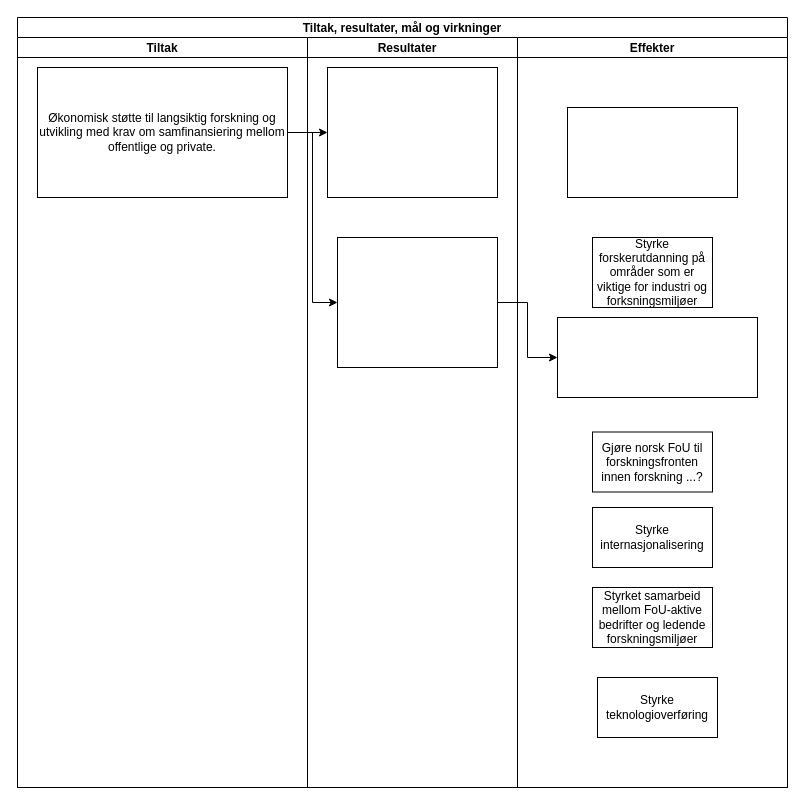
Some shapes in this 805 by 805 pixel diagram are drawn without their labels. Here are the shapes that lost their labels. From the top down, the centre of each, then its label:
At (412,132): "Økt offentlig støtte utløser næringslivets egne forskningsinvesteringer".
At (652,152): "Økt innovasjon".
At (417,302): "Sentrene utvikler verdensledende forskning på bedriftsnære temaer".
At (657,357): "Økte investeringer fra multinasjonale selskaper i FoU i Norge".
